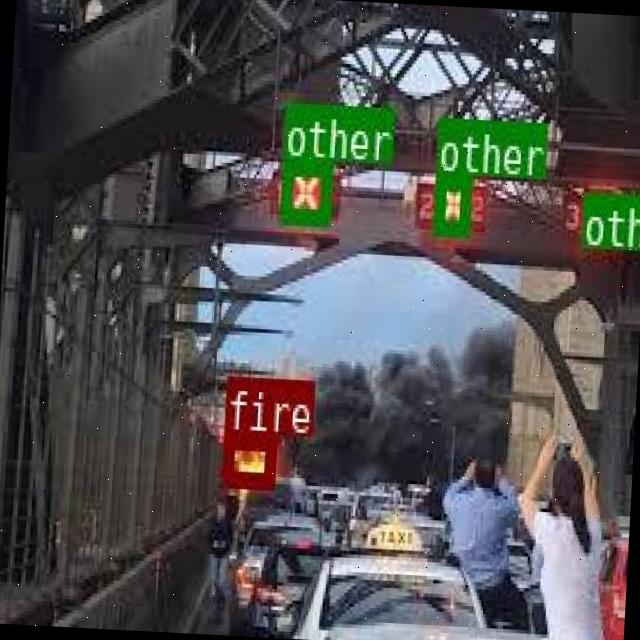fire: (219, 430, 274, 487)
